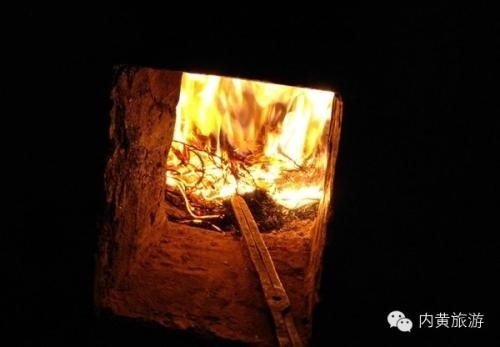fire: (167, 74, 340, 206)
